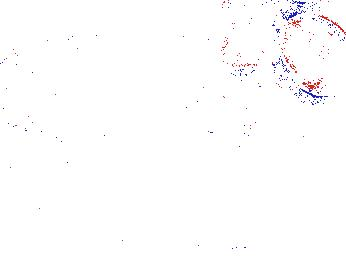moon jellyfish: (7, 36, 100, 127), (157, 85, 255, 166), (200, 1, 288, 74), (279, 12, 346, 97), (1, 52, 71, 133)
